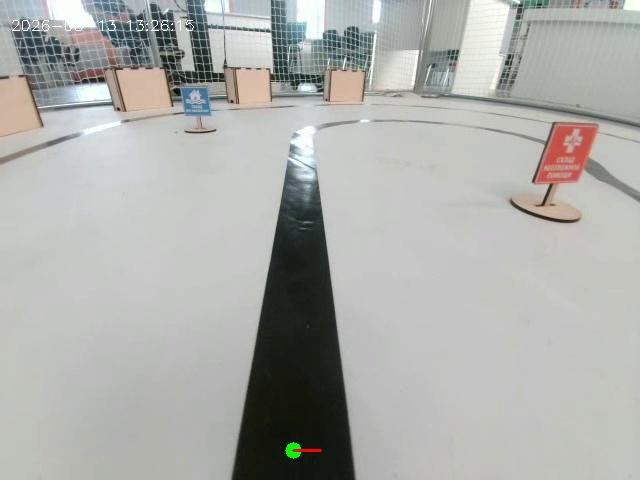flood: (169, 80, 227, 146)
medical: (499, 108, 607, 230)
